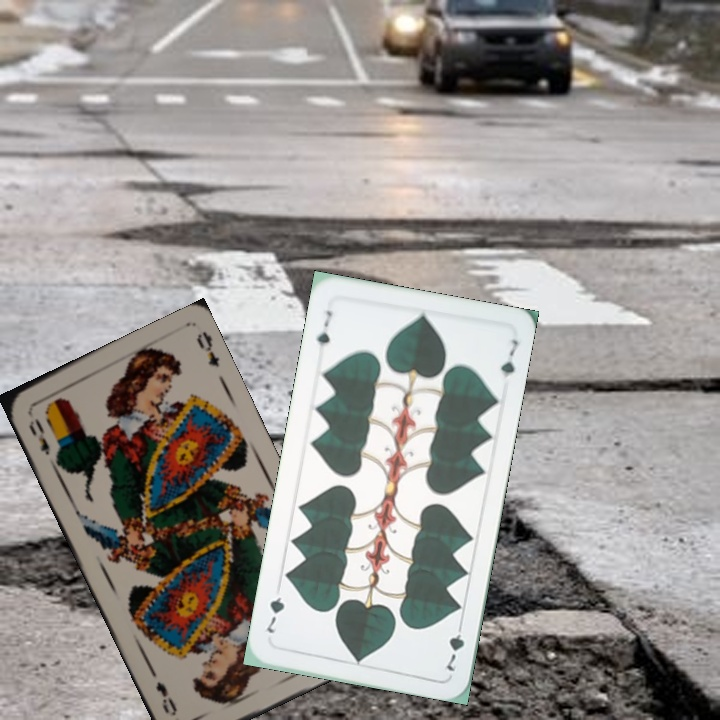EO: (24, 414, 53, 458)
G7: (442, 617, 467, 674), (312, 306, 335, 357)
